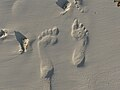human_footprint: (38, 26, 58, 89), (71, 19, 88, 66), (56, 0, 85, 14)
